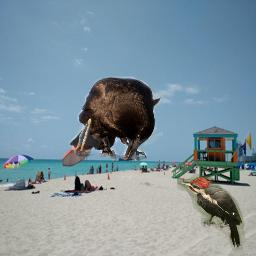Crow: (68, 76, 163, 161)
Woodpecker: (177, 174, 247, 250)
